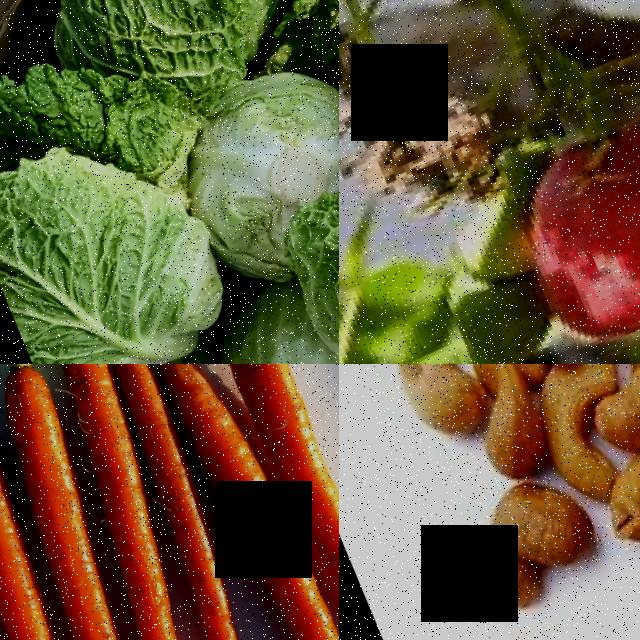cabbage: (0, 145, 223, 364), (0, 0, 339, 104), (147, 73, 339, 252), (210, 279, 339, 364)
carrot: (54, 364, 339, 640), (8, 378, 253, 640), (120, 364, 339, 640), (187, 364, 339, 640), (0, 443, 210, 640), (0, 457, 139, 640), (0, 415, 96, 640)
cashew: (457, 468, 607, 637), (341, 364, 505, 479), (521, 364, 640, 511), (593, 445, 640, 554), (596, 364, 640, 449)
